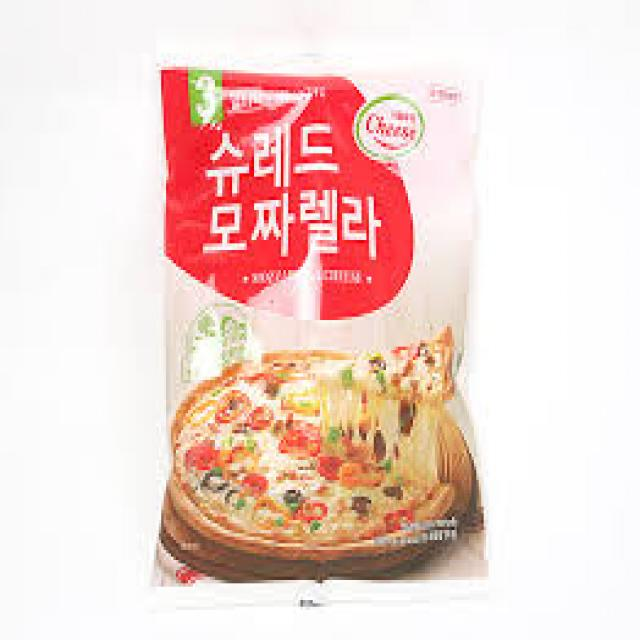cheese: (156, 46, 484, 586)
